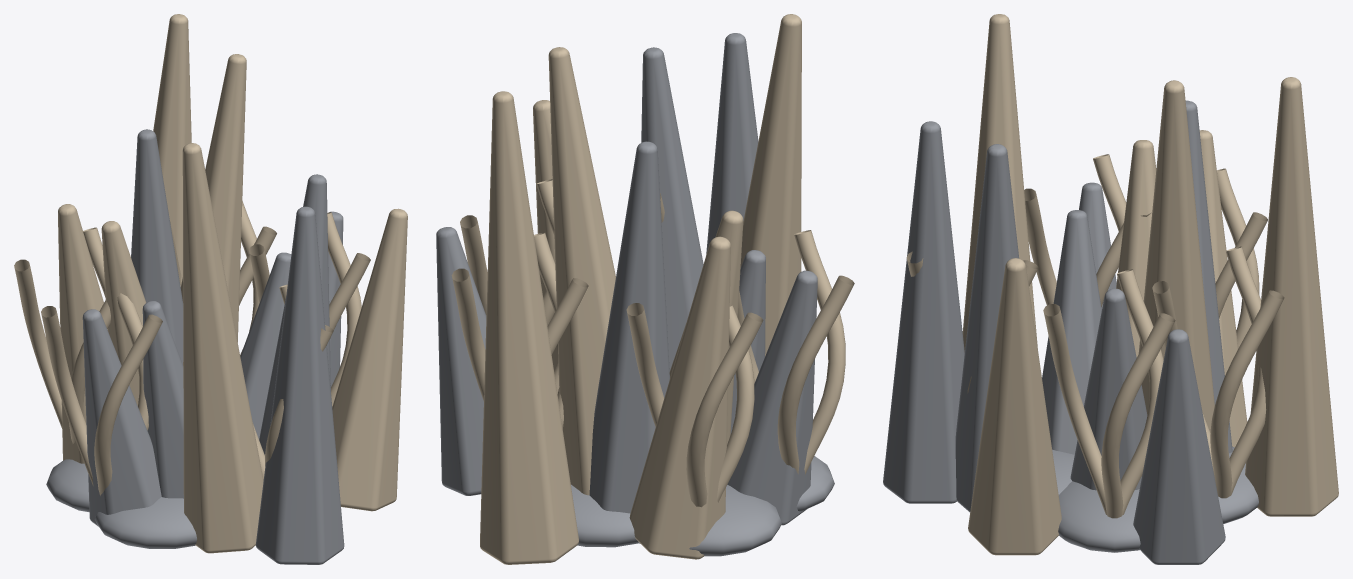
File: bio_crystal_fan_24_near.glb
3 views of the same model, side by side, from view 1: azimuth 30°, elevation 25°; view 2: azimuth 150°, elevation 25°; view 3: azimuth 270°, elevation 25° (orthographic). The views are drawn at different scales.
Visible parts, largest first — view 1: Reflecting mineral prism.007, Reflecting mineral prism.002, Reflecting mineral prism.005, Reflecting mineral prism.004, Reflecting mineral prism.003, Reflecting mineral prism.006, Spiral filament.012, Reflecting mineral prism.012, Reflecting mineral prism.011, Mineral substrate, Reflecting mineral prism.001, Reflecting mineral prism (+7 smaller); view 2: Reflecting mineral prism.011, Reflecting mineral prism.003, Reflecting mineral prism.006, Reflecting mineral prism.001, Reflecting mineral prism.007, Reflecting mineral prism.004, Reflecting mineral prism.008, Reflecting mineral prism.010, Spiral filament.003, Spiral filament.012, Mineral substrate, Reflecting mineral prism.002 (+5 smaller); view 3: Reflecting mineral prism.011, Reflecting mineral prism.002, Reflecting mineral prism.005, Reflecting mineral prism.008, Reflecting mineral prism.003, Reflecting mineral prism.010, Spiral filament, Reflecting mineral prism.012, Spiral filament.009, Reflecting mineral prism.007, Reflecting mineral prism, Mineral substrate (+6 smaller).
Boxes of the visible parts, x1,y1,x2,y2 form: Reflecting mineral prism.007: (182, 143, 263, 553); Reflecting mineral prism.002: (256, 206, 344, 564); Reflecting mineral prism.005: (332, 208, 407, 511); Reflecting mineral prism.004: (82, 309, 161, 526); Reflecting mineral prism.003: (180, 54, 246, 365); Reflecting mineral prism.006: (131, 129, 183, 364); Spiral filament.012: (41, 293, 162, 495); Reflecting mineral prism.012: (142, 301, 183, 498); Reflecting mineral prism.011: (153, 14, 191, 286); Mineral substrate: (46, 459, 196, 548); Reflecting mineral prism.001: (58, 204, 107, 463); Reflecting mineral prism: (240, 252, 291, 439); Reflecting mineral prism.011: (480, 91, 578, 564); Reflecting mineral prism.003: (548, 47, 615, 495); Reflecting mineral prism.006: (589, 141, 669, 513); Reflecting mineral prism.001: (629, 236, 730, 559); Reflecting mineral prism.007: (740, 14, 801, 356); Reflecting mineral prism.004: (727, 270, 817, 525); Reflecting mineral prism.008: (436, 227, 486, 495); Reflecting mineral prism.010: (641, 47, 703, 371); Spiral filament.003: (626, 303, 763, 507); Spiral filament.012: (737, 230, 854, 474); Mineral substrate: (571, 456, 834, 556); Reflecting mineral prism.002: (706, 33, 758, 253); Reflecting mineral prism.011: (1245, 77, 1338, 516); Reflecting mineral prism.002: (883, 121, 964, 503); Reflecting mineral prism.005: (968, 258, 1061, 555); Reflecting mineral prism.008: (1133, 329, 1225, 564); Reflecting mineral prism.003: (1138, 80, 1214, 432); Reflecting mineral prism.010: (955, 144, 1019, 512); Spiral filament: (1043, 269, 1175, 518); Reflecting mineral prism.012: (1042, 210, 1101, 454); Spiral filament.009: (1152, 246, 1284, 498); Reflecting mineral prism.007: (962, 14, 1037, 352); Reflecting mineral prism: (1070, 288, 1147, 490); Mineral substrate: (1052, 446, 1258, 552).
Bounding box in the file's own units: 1.68 × 1.97 × 1.83.
